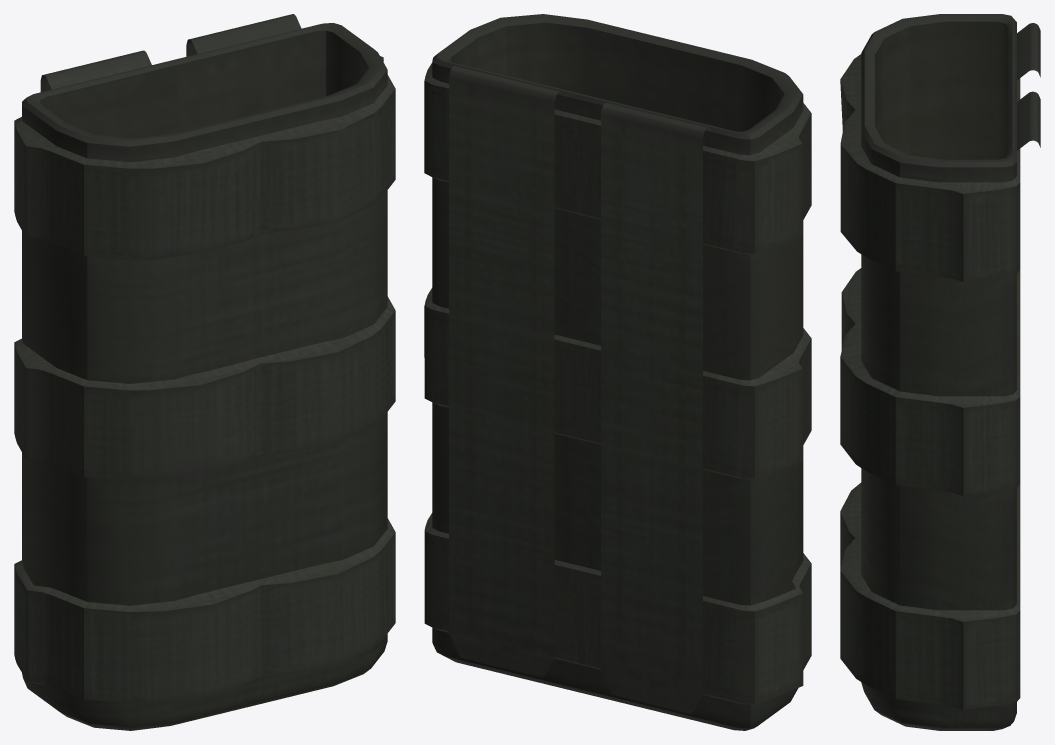
The model's file is grande_poche.fbx.
The picture shows the model from 3 angles, left to right: view 1: azimuth 30°, elevation 25°; view 2: azimuth 150°, elevation 25°; view 3: azimuth 270°, elevation 25°; orthographic projection. The views are drawn at different scales.
Parts seen in each view (by area): view 1: WarBelt; view 2: WarBelt; view 3: WarBelt.
Part boxes in pixels (box(x1,y1,x2,y2)): WarBelt: box(14, 14, 395, 730); WarBelt: box(424, 14, 811, 730); WarBelt: box(840, 14, 1040, 730).
Bounding box in the file's own units: 863 × 1383 × 432.
Materials: 1 (1 with a texture image).
